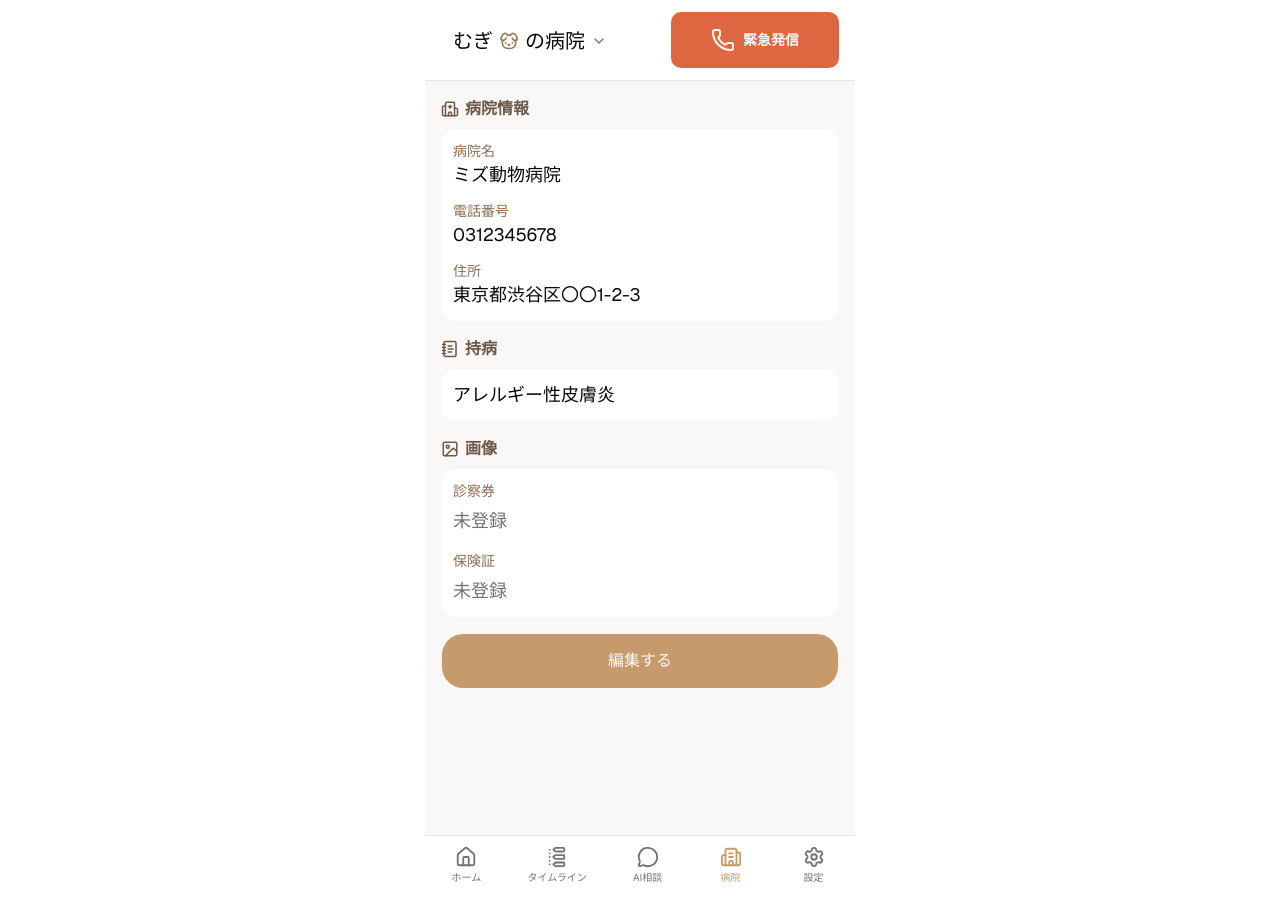
Test: HospitalPage › ペット切り替え › UT-F-307: ペット切り替え：petListが2匹以上の場合、切り替えボタンクリックでPetSwitchModalが開く
Click the button with aria-label "ペットを切り替える": click(530, 41) left=453, top=19, right=607, bottom=63
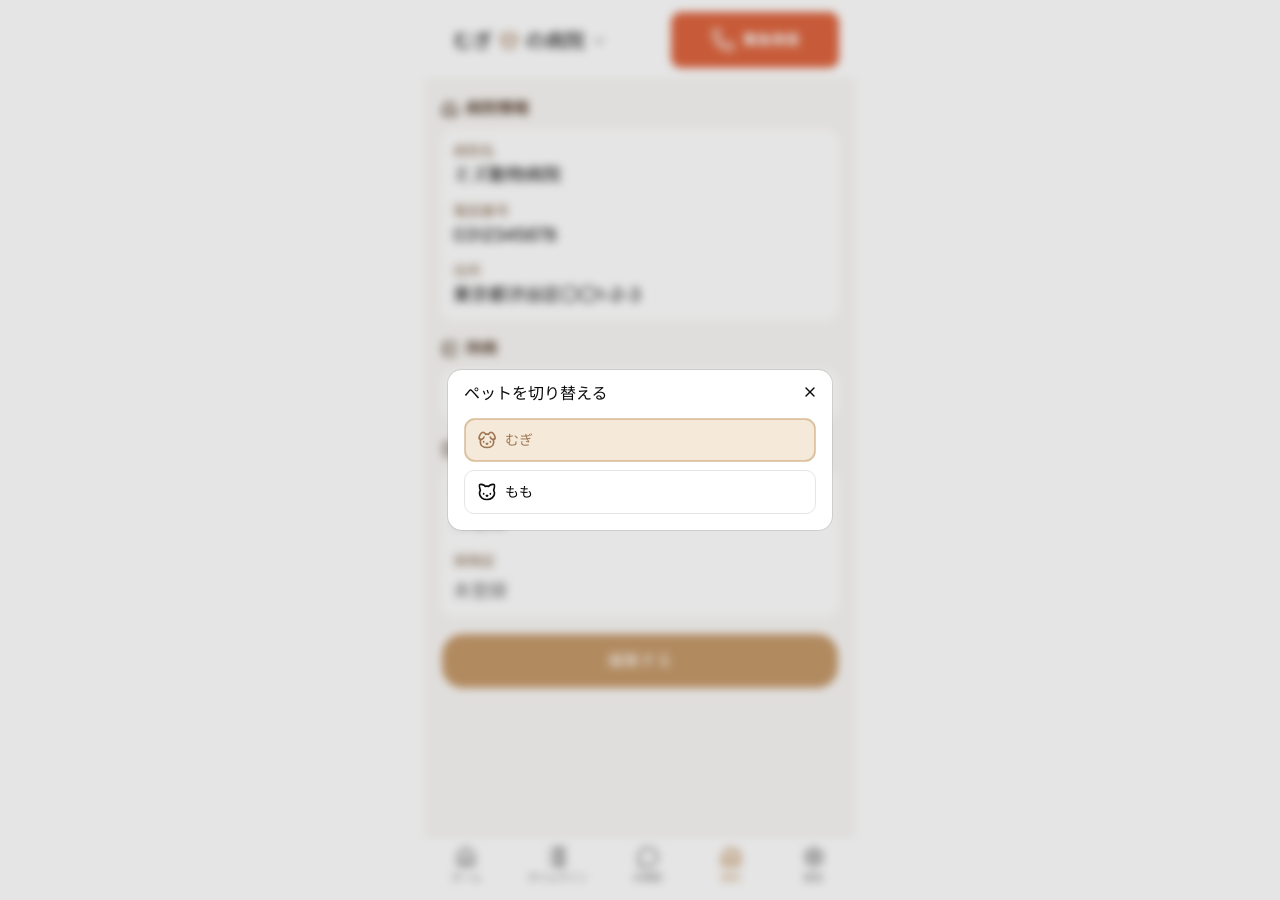
Result: the dialog is shown at left=448, top=370, right=832, bottom=530
